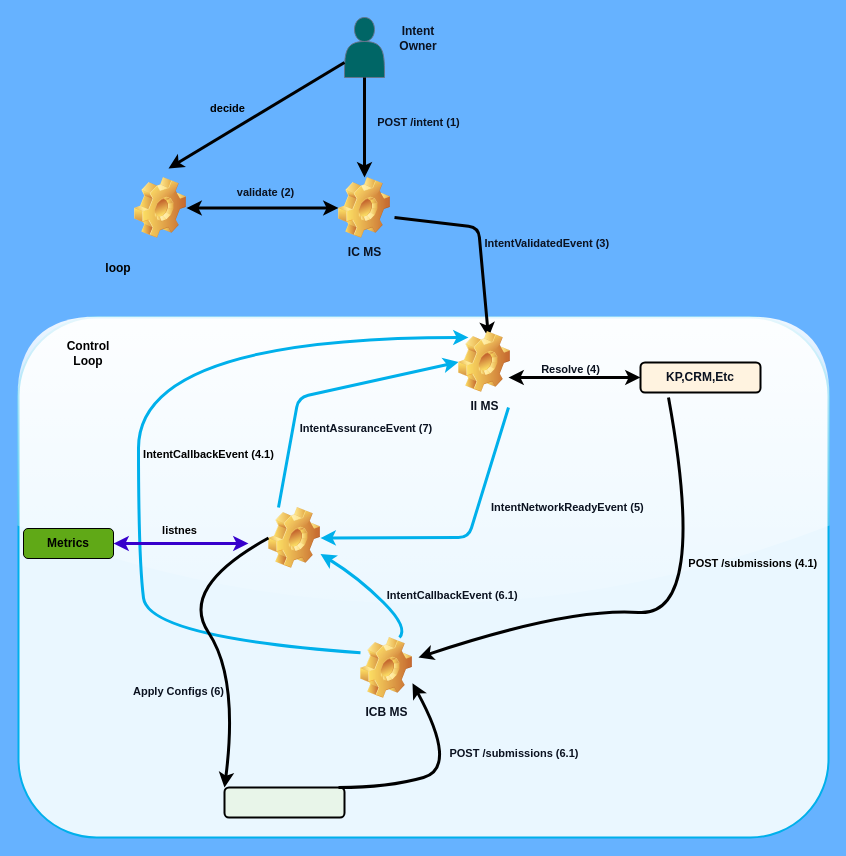
Image size: 846x856. Some labels were removed from this diagram. Each missing label, with the box of its shape:
IA MS: (268, 507, 320, 568)
ID MS: (134, 177, 186, 238)
Orchestrator: (223, 786, 345, 818)
